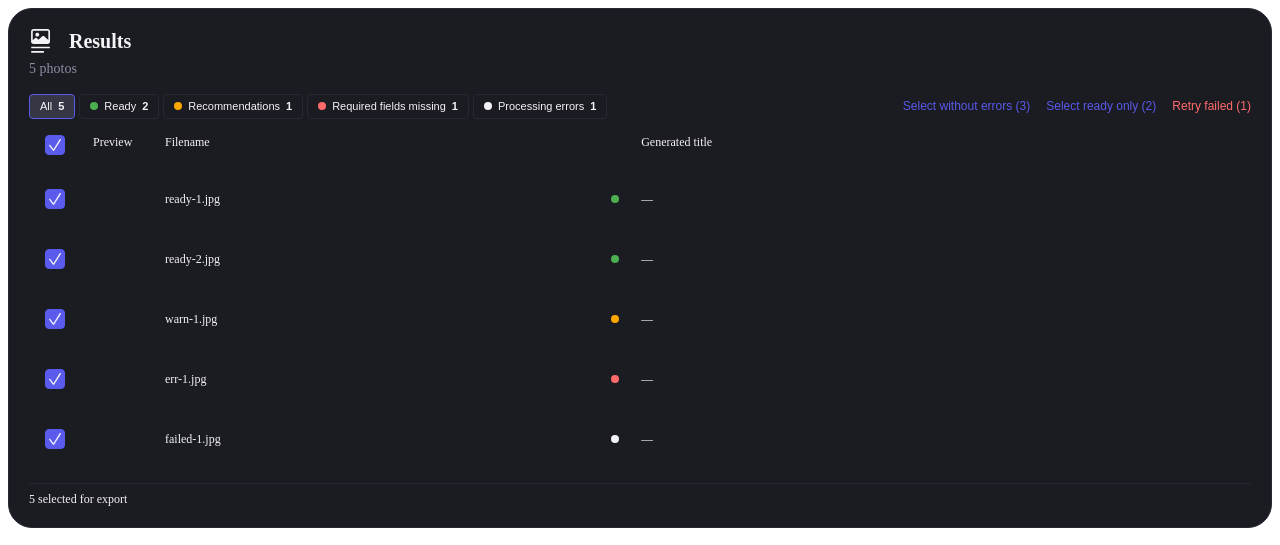
Test: повторный клик по активной группе возвращает ко всем файлам
The image size is (1280, 545).
Step 1. Click the button with aria-label "Ready (2)" → {"x": 119, "y": 106}, box x1=79 y1=94 x2=159 y2=119
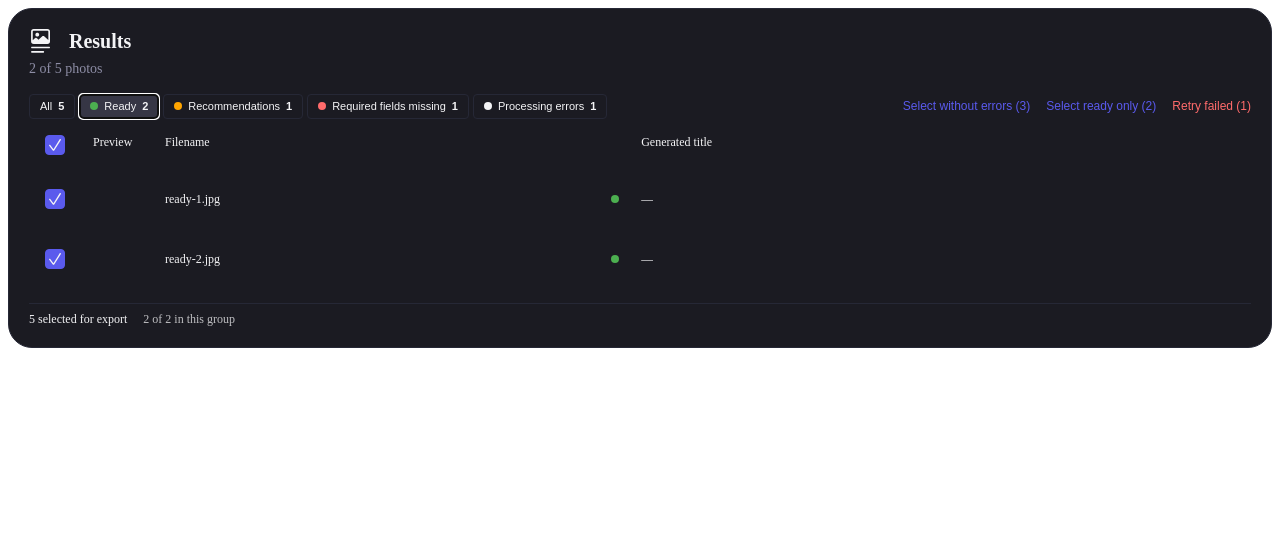
Now the button "err-1.jpg" is gone
Step 2. Click the button with aria-label "Ready (2)" → {"x": 119, "y": 106}, box x1=79 y1=94 x2=159 y2=119
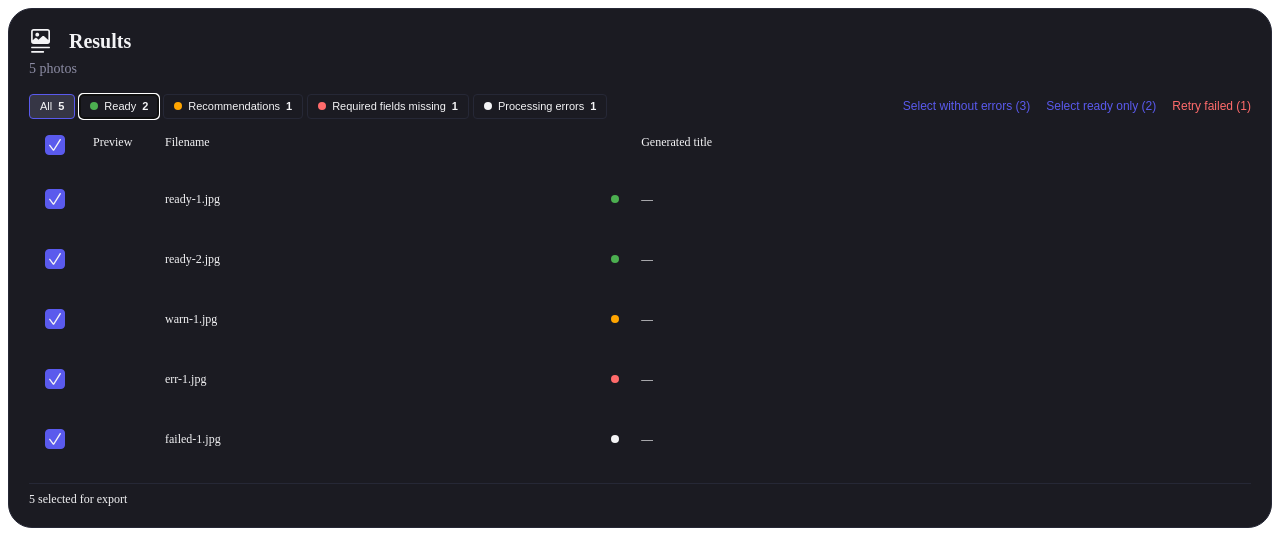
Now the text "err-1.jpg" is shown, box x1=165 y1=372 x2=206 y2=386
